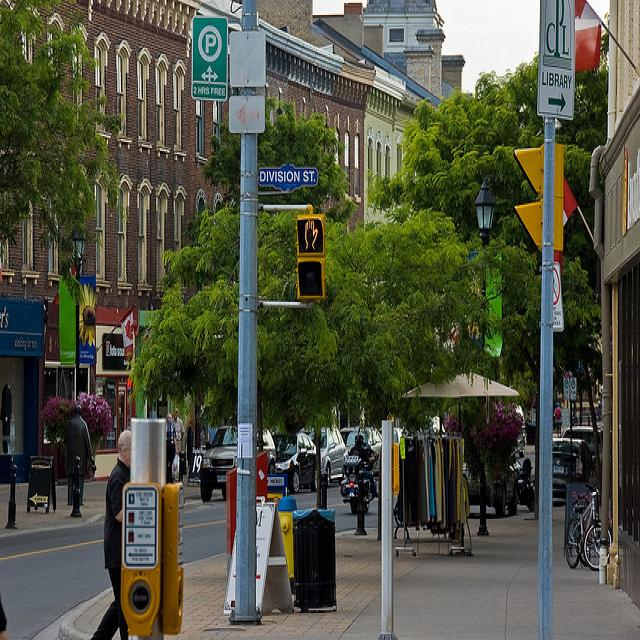motor: (336, 448, 380, 517)
